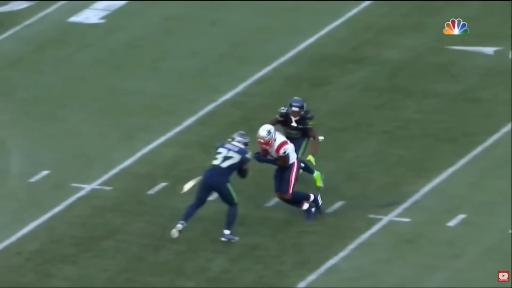Helmet: (257, 124, 275, 148), (230, 131, 249, 146), (288, 98, 305, 113)
Jersey: (204, 142, 250, 182), (277, 107, 313, 138), (269, 132, 297, 164)
Player: (171, 132, 250, 241), (257, 124, 321, 220), (270, 98, 319, 165)
